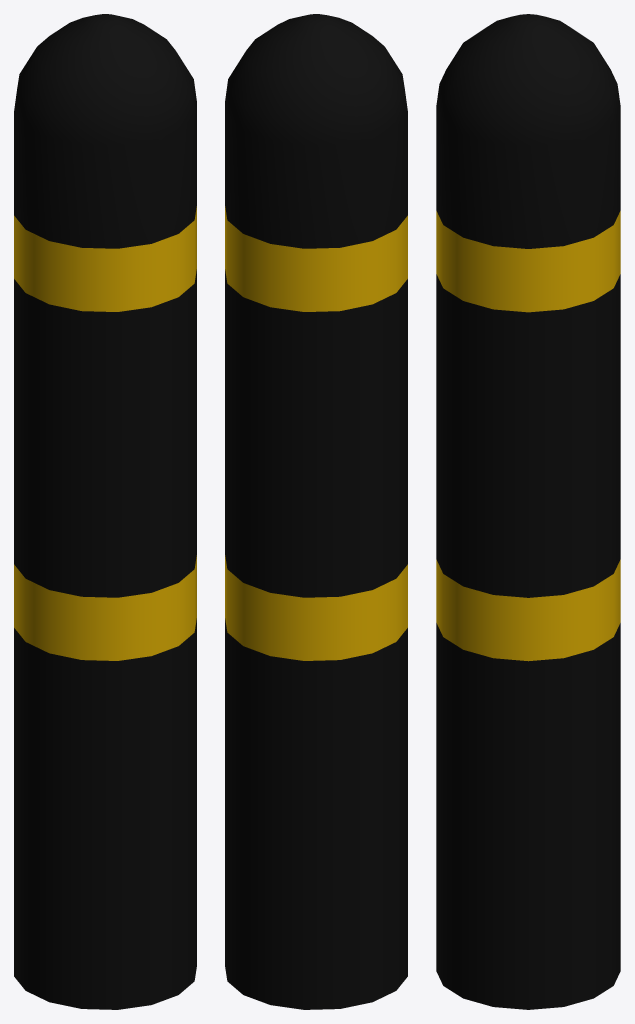
Rendered from Bollard-1.glb.
The picture shows the model from 3 angles, left to right: view 1: azimuth 30°, elevation 25°; view 2: azimuth 150°, elevation 25°; view 3: azimuth 270°, elevation 25°; orthographic projection.
Visible parts, largest first — view 1: Bollard; view 2: Bollard; view 3: Bollard.
Boxes of the visible parts, <box> form: Bollard: <box>14,14,196,1009</box>; Bollard: <box>225,14,407,1009</box>; Bollard: <box>436,14,620,1009</box>.
Bounding box in the file's own units: 0.4 × 2.28 × 0.4.
